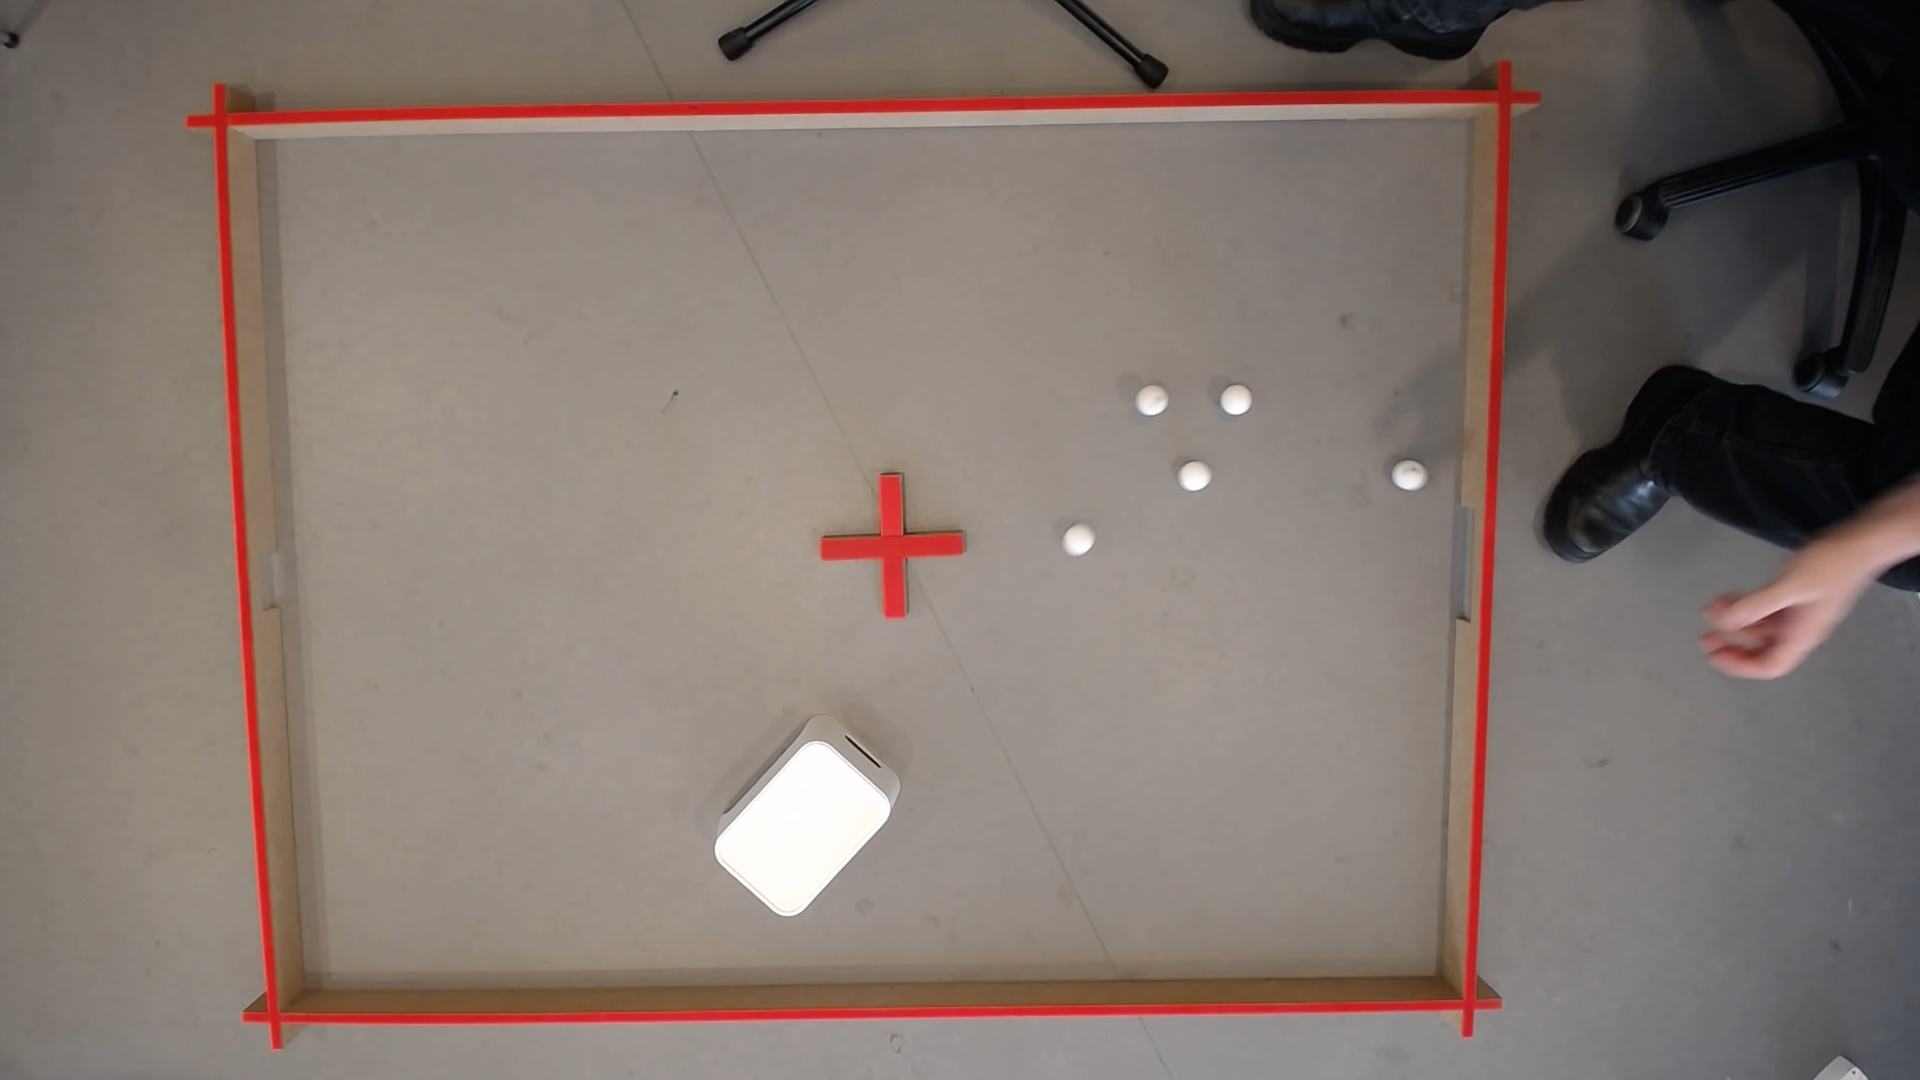balls: (703, 729, 899, 927), (1176, 460, 1212, 495), (1218, 386, 1251, 418), (1134, 388, 1166, 419), (1065, 530, 1092, 554)
car: (1393, 468, 1423, 491)
